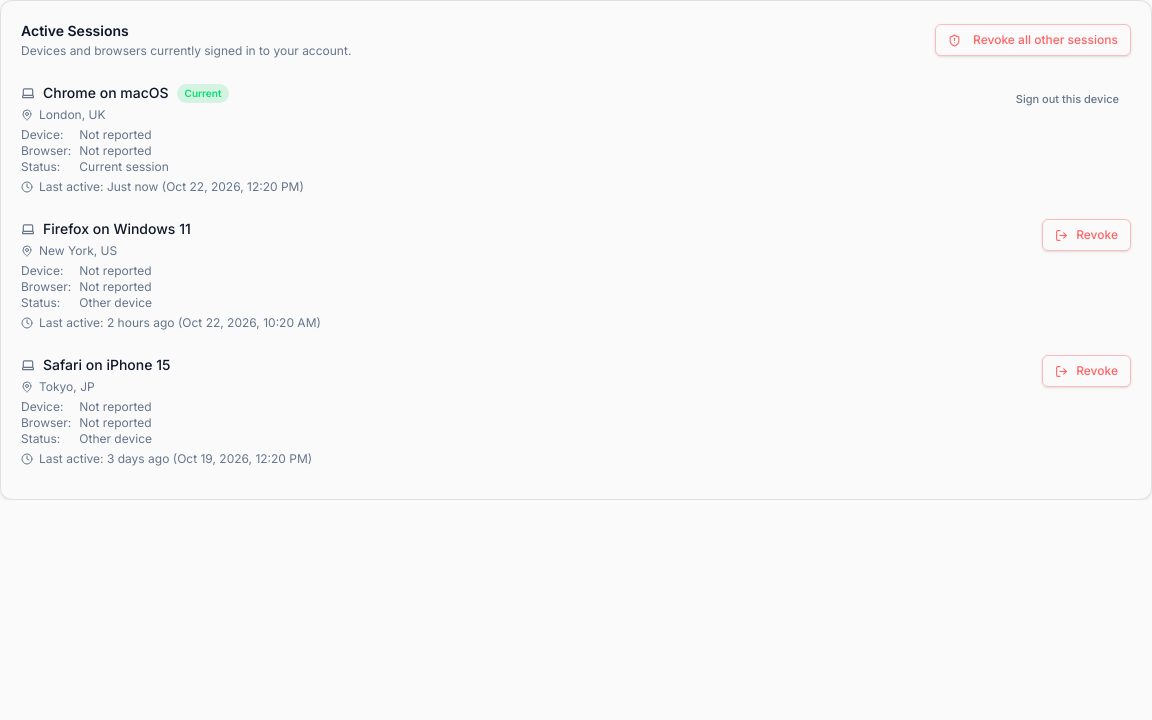
ActiveSessionsPanel – single revoke › shows error text mentioning retry after a failed revoke
This screenshot has width=1152, height=720.
Click the button with aria-label "revoke session on firefox on windows 11": click(1087, 235) [1042,219,1131,251]
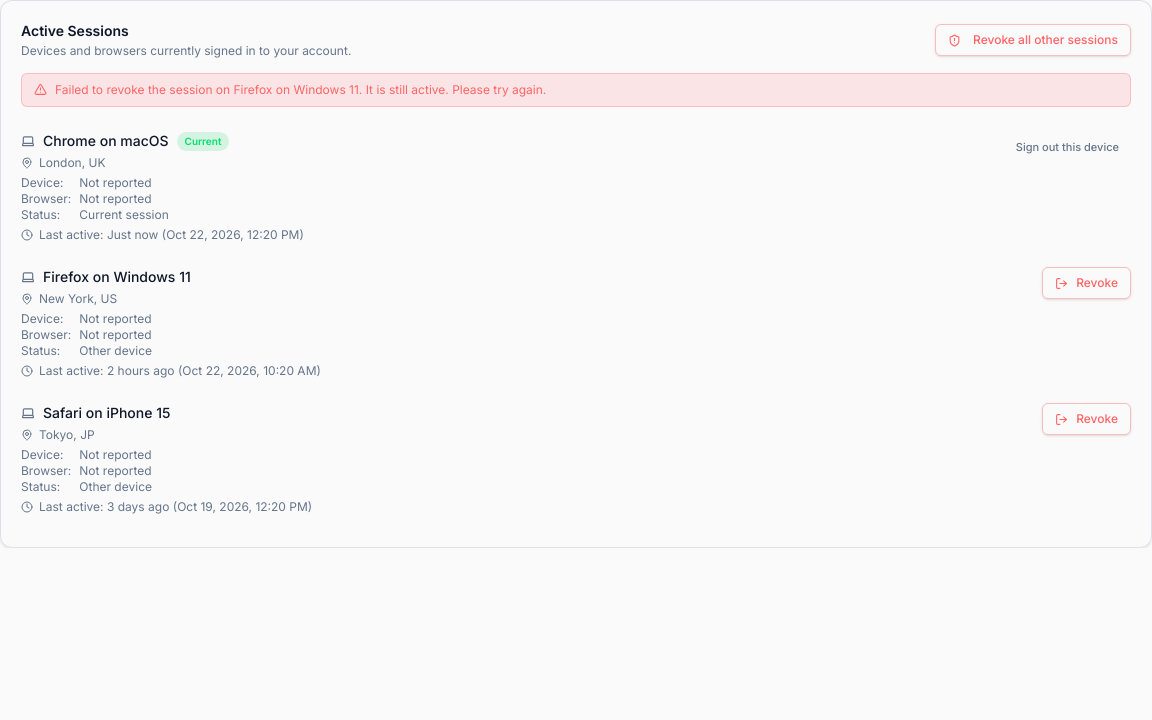
Expected: the message shows "try again", [55,82,546,97]
